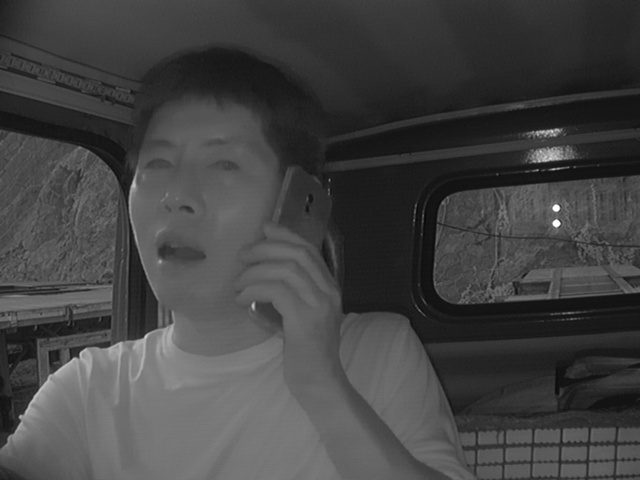hand: (235, 220, 350, 376)
